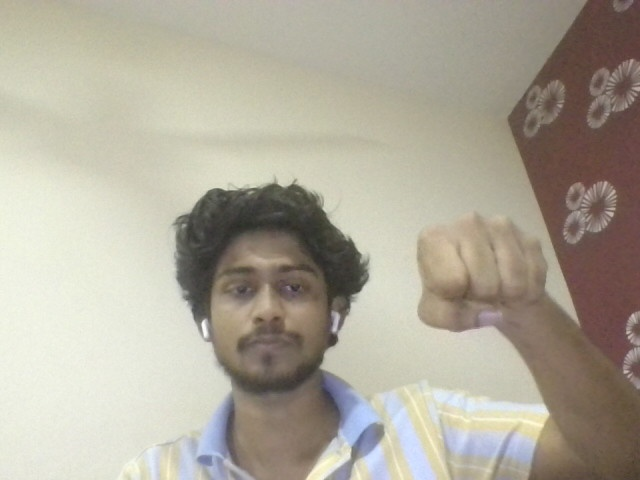yes: (405, 207, 584, 332)
